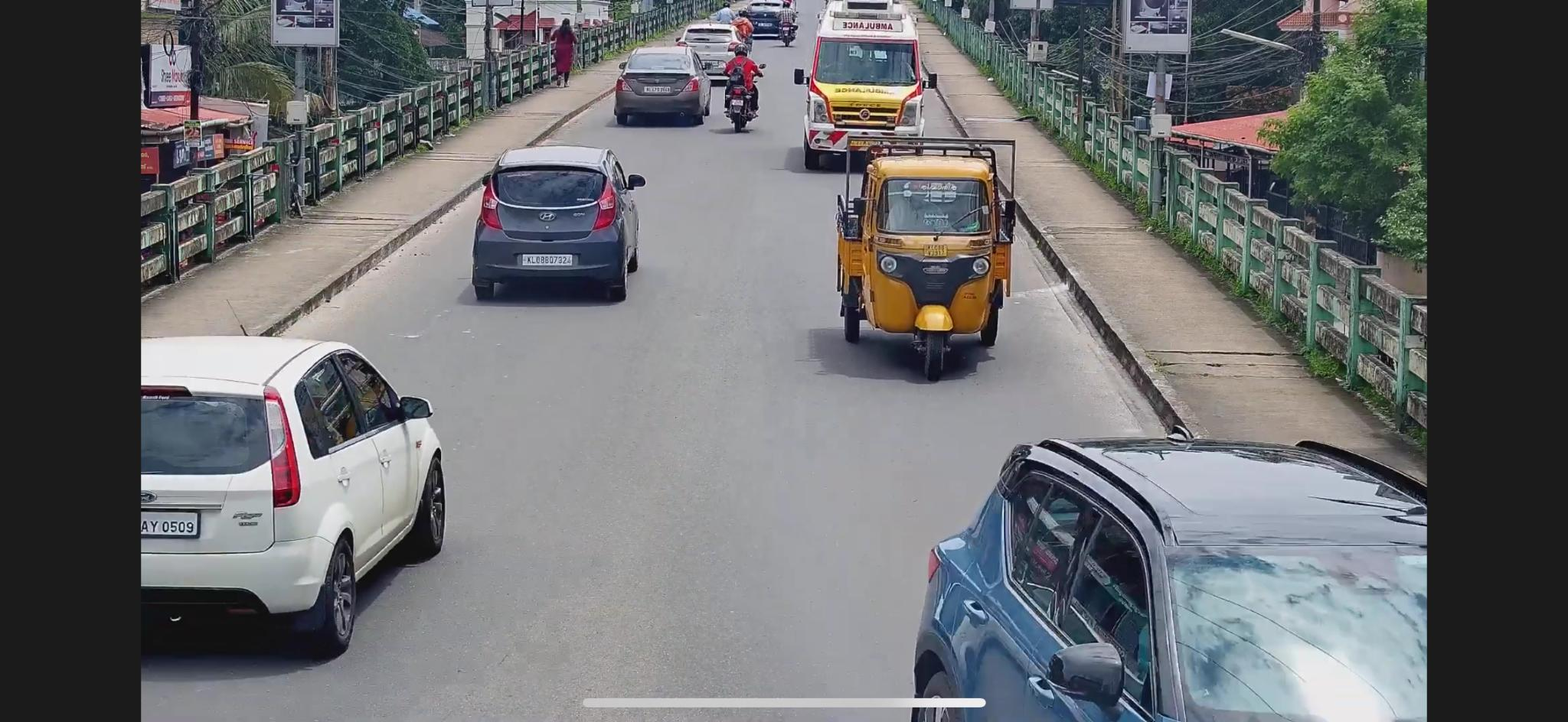ambulance: (802, 2, 923, 172)
